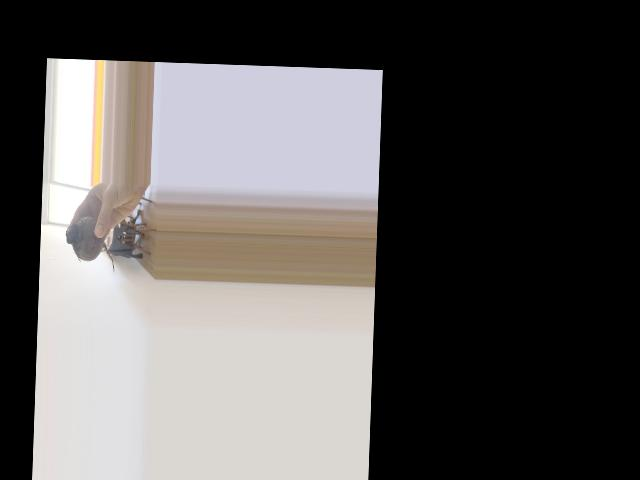beet: (64, 216, 116, 274)
